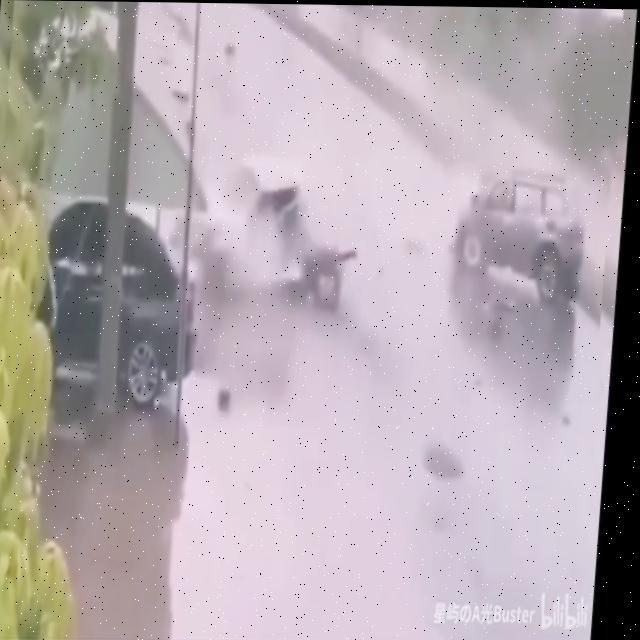multiple_accident: (35, 179, 640, 397)
